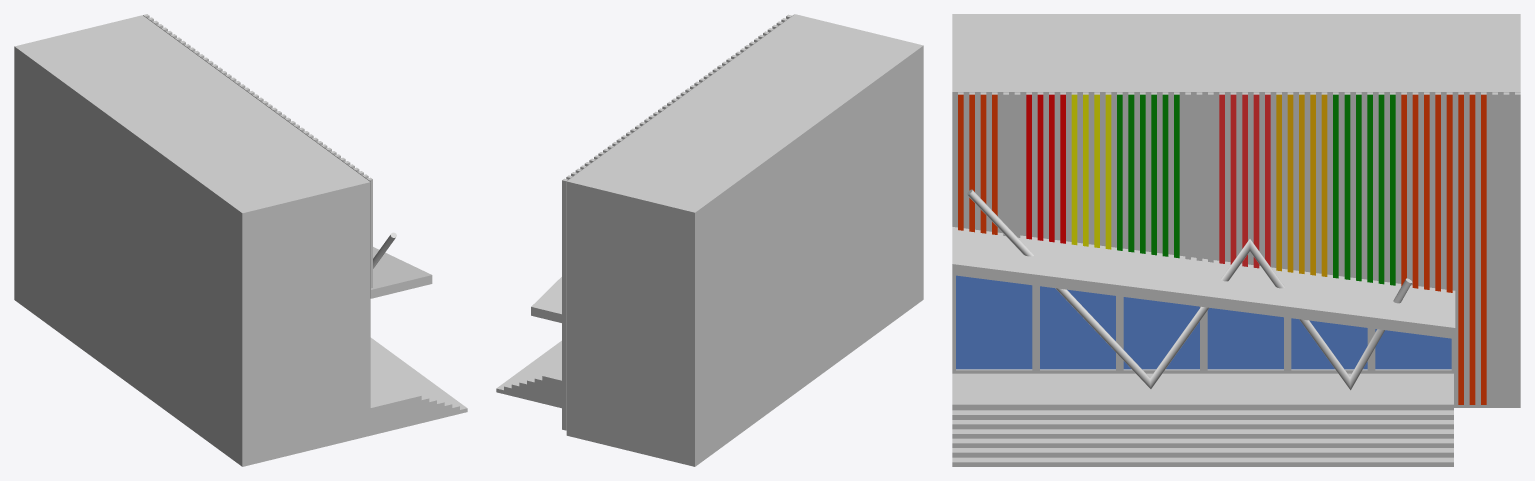
File: Tòa mỹ thuật.obj
3 renders of one model, left to right at view 1: azimuth 30°, elevation 25°; view 2: azimuth 150°, elevation 25°; view 3: azimuth 270°, elevation 25°, orthographic. The views are drawn at different scales.
Parts seen in each view (by area): view 1: Mesh1 Group4 Group3 Group2 Group1 T_a_m__thu_t1 Model, Mesh5 Group7 Group6 Group2 Group1 T_a_m__thu_t1 Model, Mesh4 Group5 Group2 Group1 T_a_m__thu_t1 Model; view 2: Mesh1 Group4 Group3 Group2 Group1 T_a_m__thu_t1 Model, Mesh4 Group5 Group2 Group1 T_a_m__thu_t1 Model, Mesh5 Group7 Group6 Group2 Group1 T_a_m__thu_t1 Model; view 3: Mesh4 Group5 Group2 Group1 T_a_m__thu_t1 Model, Mesh1 Group4 Group3 Group2 Group1 T_a_m__thu_t1 Model, Mesh5 Group7 Group6 Group2 Group1 T_a_m__thu_t1 Model, Mesh3 Group5 Group2 Group1 T_a_m__thu_t1 Model.
Part boxes in pixels (left/top/right/bottom): Mesh1 Group4 Group3 Group2 Group1 T_a_m__thu_t1 Model: left=14, top=15, right=370, bottom=466; Mesh5 Group7 Group6 Group2 Group1 T_a_m__thu_t1 Model: left=370, top=337, right=467, bottom=435; Mesh4 Group5 Group2 Group1 T_a_m__thu_t1 Model: left=143, top=14, right=432, bottom=298; Mesh1 Group4 Group3 Group2 Group1 T_a_m__thu_t1 Model: left=566, top=14, right=923, bottom=466; Mesh4 Group5 Group2 Group1 T_a_m__thu_t1 Model: left=531, top=14, right=794, bottom=430; Mesh5 Group7 Group6 Group2 Group1 T_a_m__thu_t1 Model: left=496, top=340, right=561, bottom=408; Mesh4 Group5 Group2 Group1 T_a_m__thu_t1 Model: left=952, top=92, right=1520, bottom=404; Mesh1 Group4 Group3 Group2 Group1 T_a_m__thu_t1 Model: left=952, top=14, right=1520, bottom=407; Mesh5 Group7 Group6 Group2 Group1 T_a_m__thu_t1 Model: left=952, top=373, right=1453, bottom=466; Mesh3 Group5 Group2 Group1 T_a_m__thu_t1 Model: left=967, top=189, right=1412, bottom=390.
Size of the model in its own units: 9270 by 9983 by 16270.
